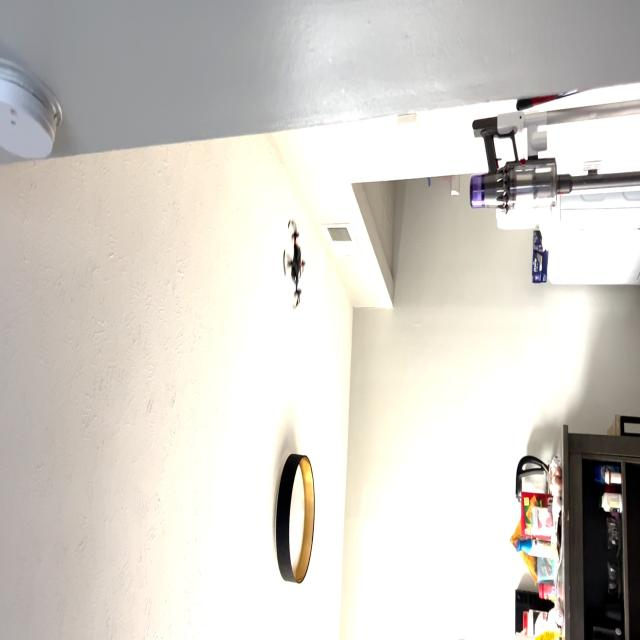drone: (274, 207, 316, 320)
